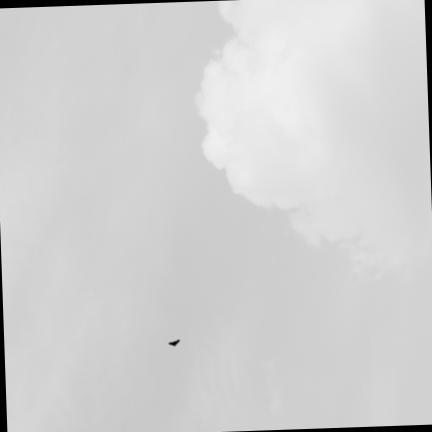Shahed: (168, 339, 179, 344)
